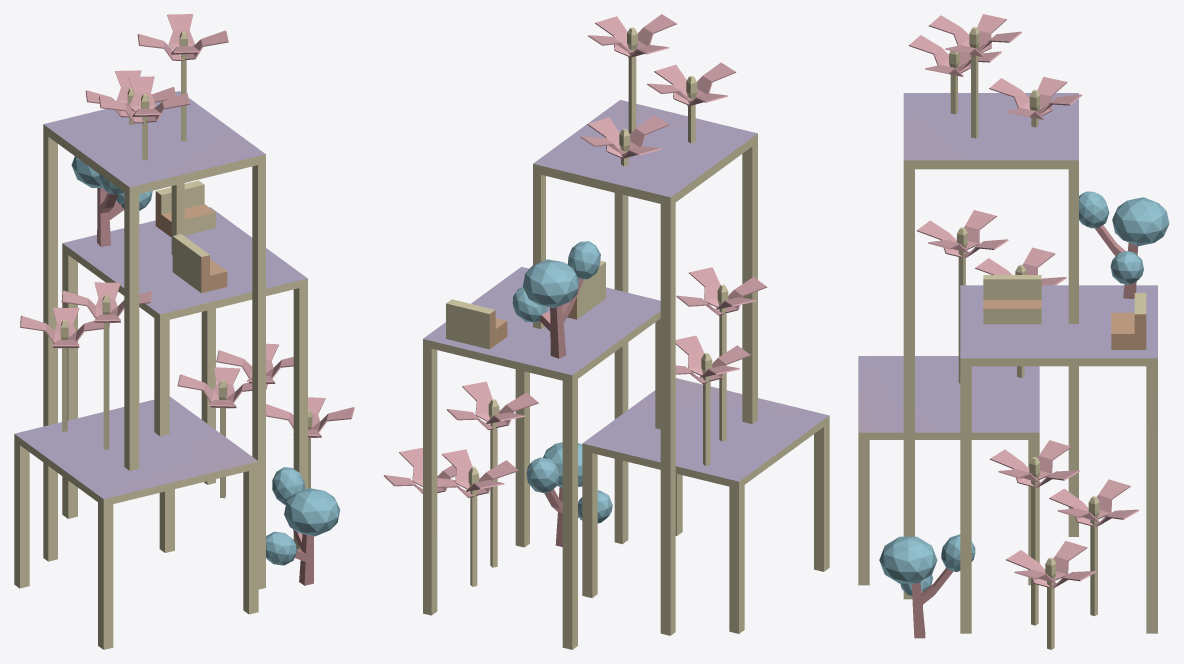
File: garden.glb
3 renders of one model, left to right at view 1: azimuth 30°, elevation 25°; view 2: azimuth 150°, elevation 25°; view 3: azimuth 270°, elevation 25°, orthographic.
Visible parts, largest first — view 1: Plane.006; view 2: Plane.006; view 3: Plane.006.
Part boxes in pixels (x1,y1,x2,y2): Plane.006: (14, 14, 354, 649); Plane.006: (384, 14, 829, 649); Plane.006: (858, 14, 1169, 649).
Size of the model in its own units: 1.14 by 1.78 by 0.8969.
